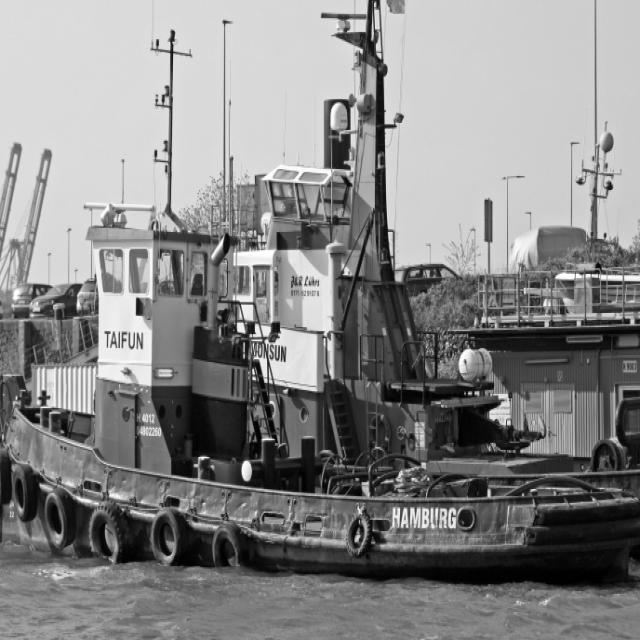tugboat: (1, 29, 640, 606)
